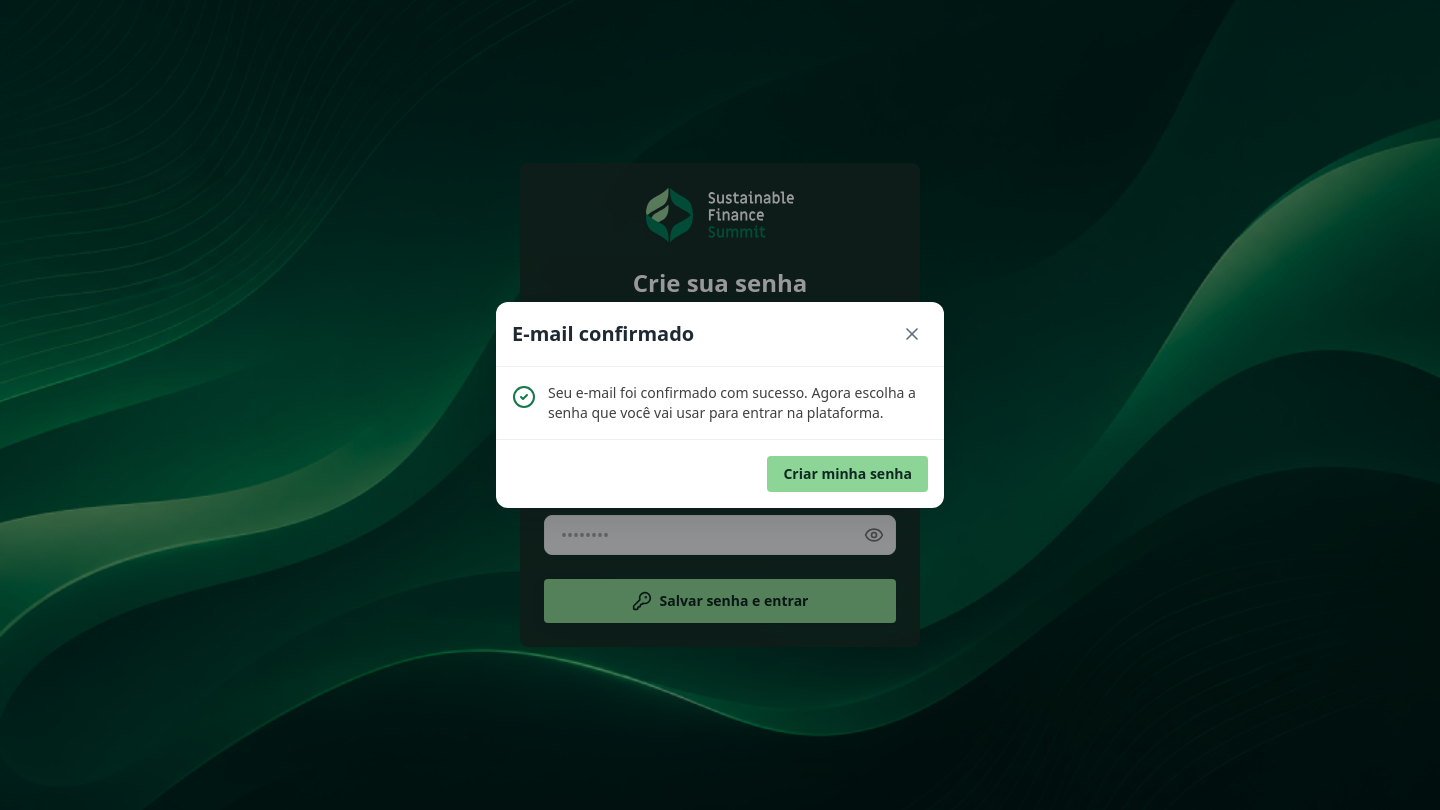
Test case: TrocarSenhaPage › confirma o e-mail antes de pedir a senha
expect the dialog "E-mail confirmado" is shown: met, box [496,302,944,508]
Click the button "Criar minha senha": (848, 474) [767,456,928,492]
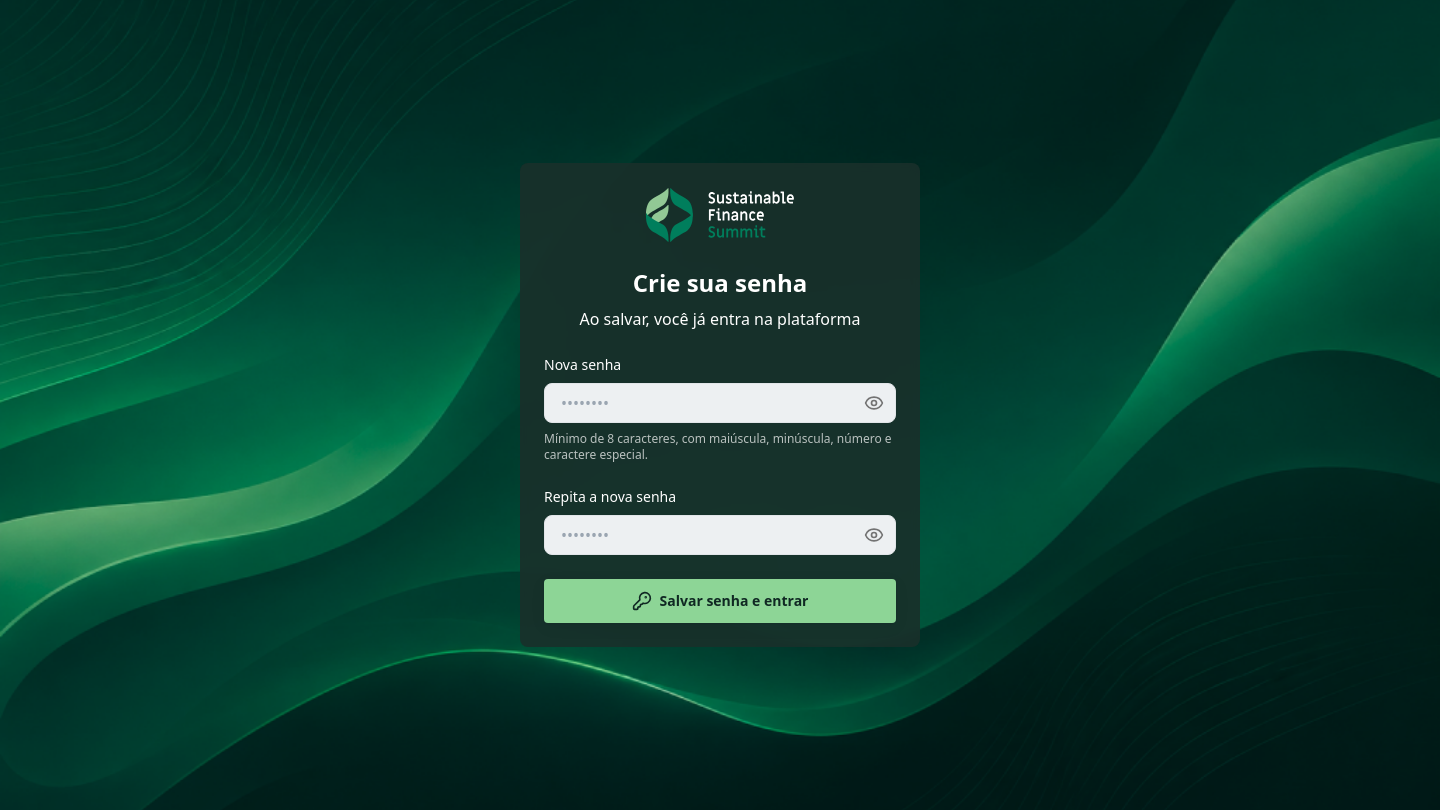
expect the dialog is gone: met
